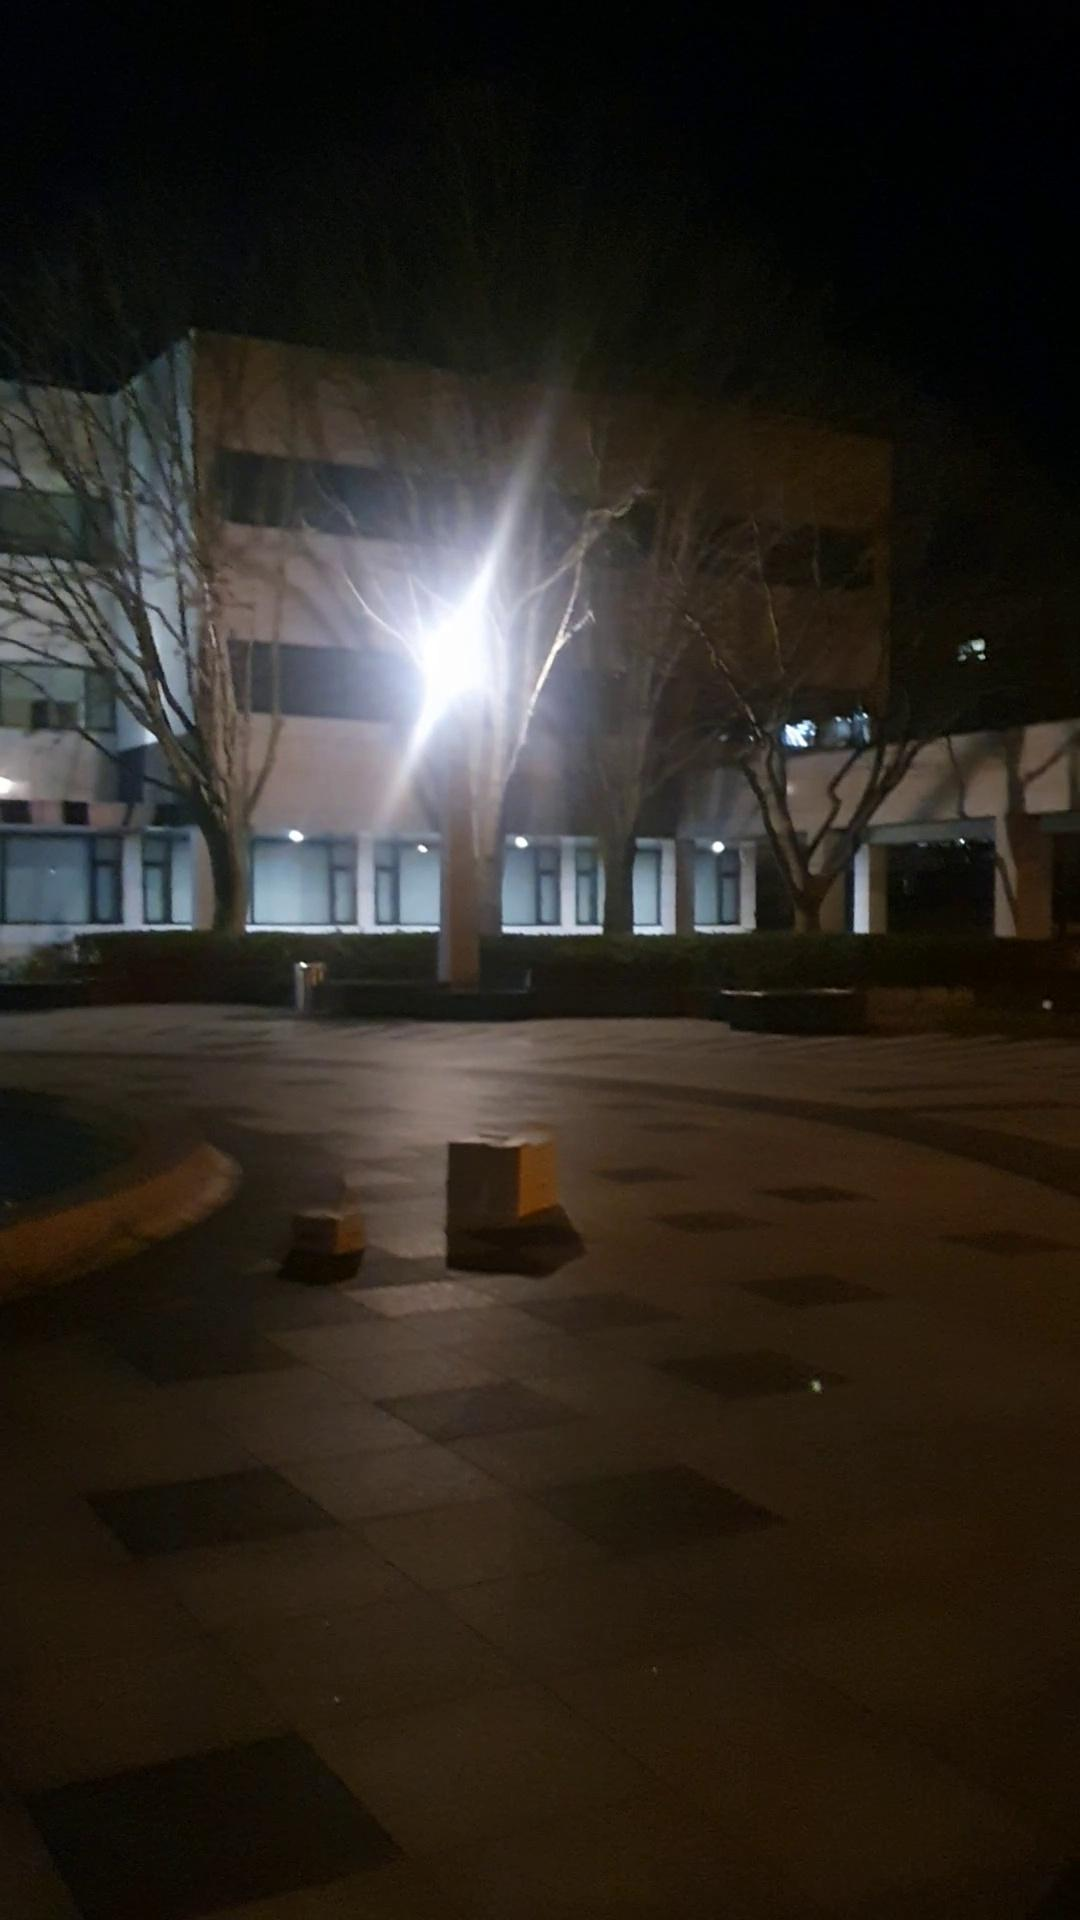Box: (436, 1116, 558, 1242), (286, 1189, 371, 1270)
